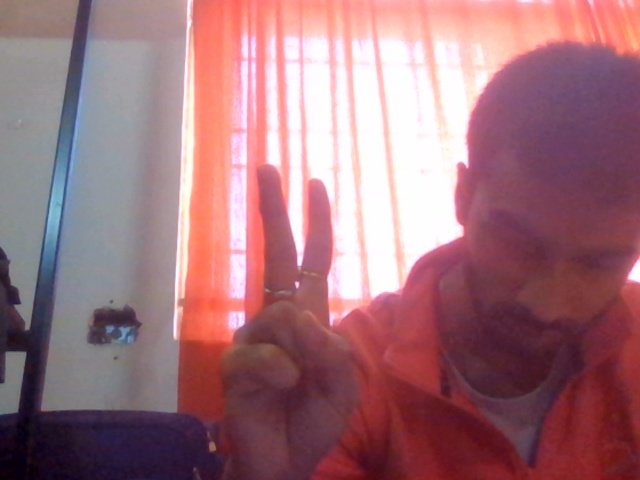V: (194, 146, 392, 476)
